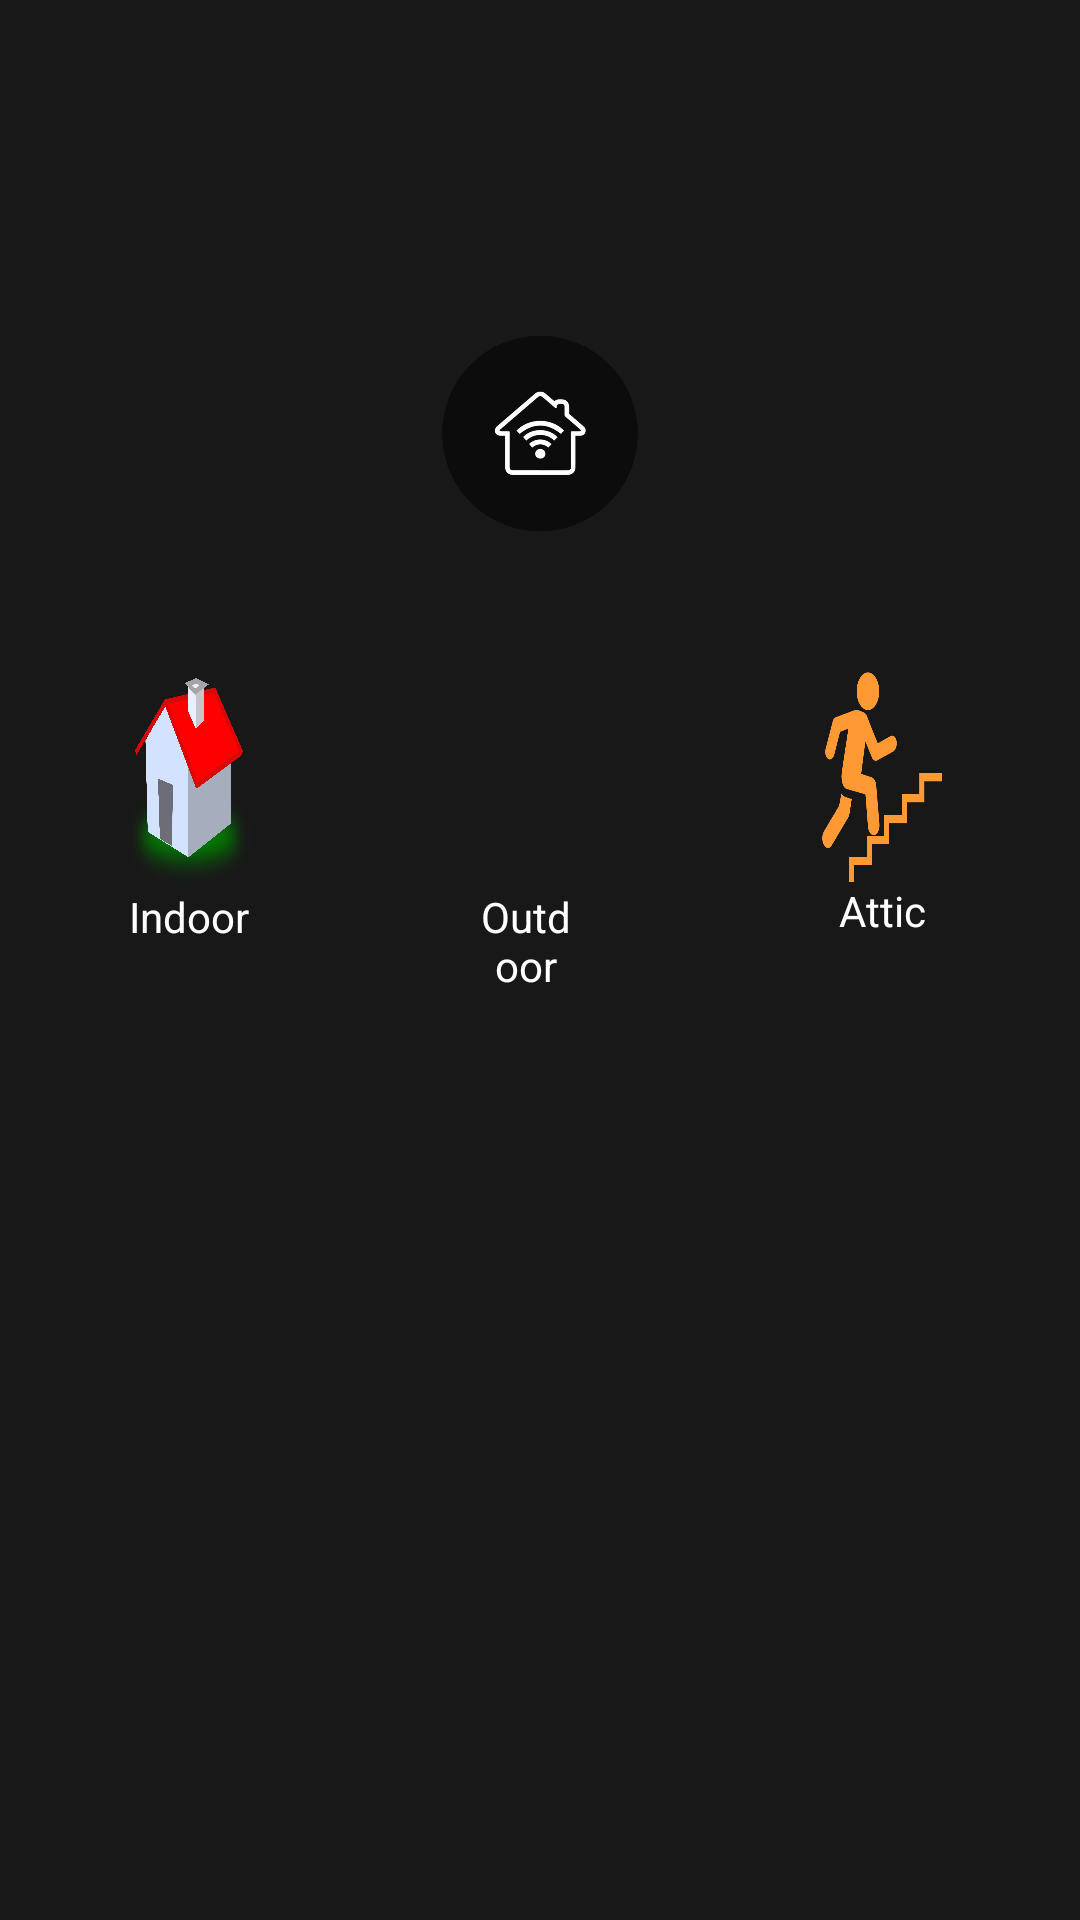

Screen size 1080×1920. Icon name, then its box in pixels as box=[x1, y1, x2, y2]:
smarthome hp: box=[442, 336, 638, 531]
